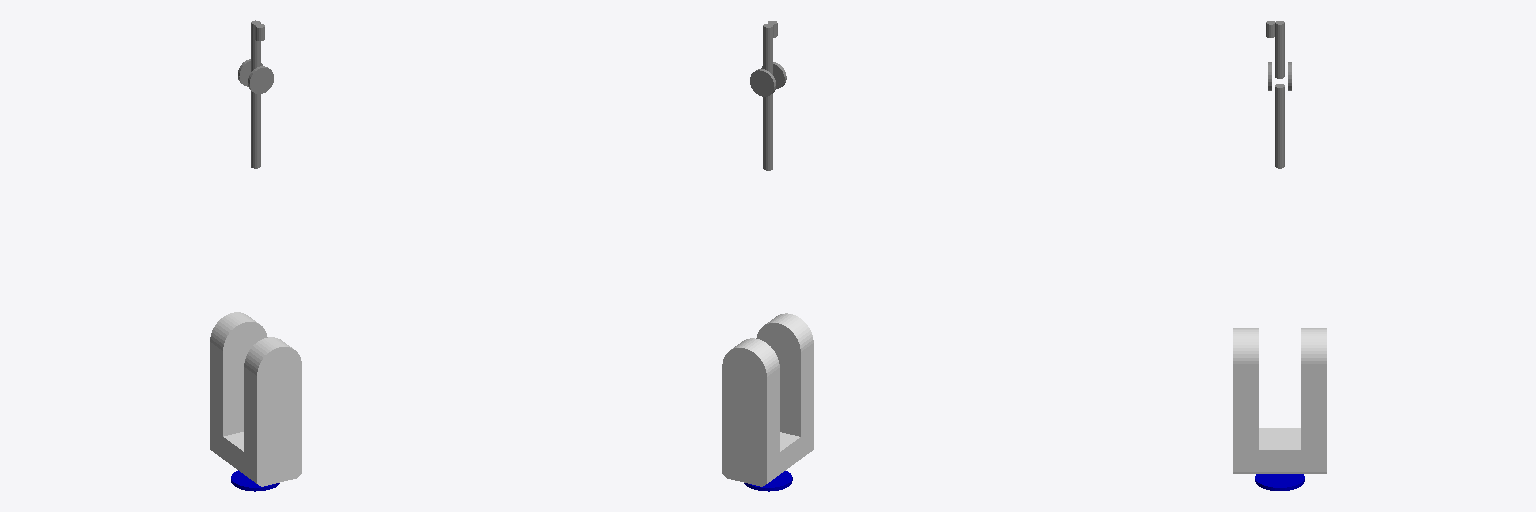
The robot description file, URDF, robot "x6":
<?xml version="1.0" ?>
<!-- =================================================================================== -->
<!-- |    This document was autogenerated by xacro from x6.urdf.xacro                  | -->
<!-- |    EDITING THIS FILE BY HAND IS NOT RECOMMENDED                                 | -->
<!-- =================================================================================== -->
<robot name="x6" xmlns:xacro="http://www.ros.org/wiki/xacro">
  <!-- Included URDF Files -->
  <link name="base">
    <inertial>
      <mass value="10"/>
      <origin rpy="0 0 0" xyz="0.0 0.0 0.0"/>
      <inertia ixx="0.001" ixy="0.0" ixz="0.0" iyy="0.001" iyz="0.0" izz="0.001"/>
    </inertial>
  </link>
  <!-- Used for fixing robot to Gazebo 'base_link' -->
  <link name="world"/>
  <joint name="fixed" type="fixed">
    <parent link="world"/>
    <child link="base"/>
  </joint>
  <link name="x6_base_link">
    <visual>
      <geometry>
        <!-- <mesh filename="package://x6_description/meshes/x6_common/x6_link_0_gnd.dae"/> -->
        <cylinder length="0.008" radius="0.05"/>
      </geometry>
      <origin rpy="0 0 0" xyz="0 0 0.004"/>
      <material name="blue">
        <color rgba="0 0 .8 1"/>
      </material>
    </visual>
    <collision>
      <geometry>
        <cylinder length="0.008" radius="0.05"/>
        <!-- <mesh filename="package://x6_description/meshes/x6_common/x6_link_0_gnd.stl"/> -->
      </geometry>
      <origin rpy="0 0 0" xyz="0 0 0.004"/>
    </collision>
    <inertial>
      <mass value="0.1"/>
      <origin rpy="0 0 0" xyz="0.0 0.0 0.0"/>
      <inertia ixx="0.001" ixy="0.0" ixz="0.0" iyy="0.001" iyz="0.0" izz="0.001"/>
    </inertial>
  </link>
  <gazebo reference="x6_base_link">
    <selfCollide>true</selfCollide>
    <material>x6_material/Grey</material>
    <!--<material>HLUGV/Green</material>-->
  </gazebo>
  <link name="x6_link1">
    <visual>
      <geometry>
        <mesh filename="package://x6_description/meshes/x6_common/x6_link_1.dae"/>
        <!--                    <box size="${j1_x} ${j1_y} ${j1_z}" />-->
      </geometry>
      <origin rpy="0 0 1.5707963268" xyz="0 0 -0.008"/>
      <material name="green">
        <color rgba="0.9 0.9 0.9 1"/>
      </material>
    </visual>
    <collision>
      <geometry>
        <mesh filename="package://x6_description/meshes/x6_common/x6_link_1.stl"/>
        <!--<box size="${j1_x} ${j1_y} ${j1_z}" />-->
      </geometry>
      <origin rpy="0 0 1.5707963268" xyz="0 0 -0.008"/>
    </collision>
    <inertial>
      <mass value="3"/>
      <origin rpy="0 0 0" xyz="0.0 0.0 0.0"/>
      <inertia ixx="0.001" ixy="0.0" ixz="0.0" iyy="0.001" iyz="0.0" izz="0.001"/>
    </inertial>
  </link>
  <gazebo reference="x6_link1">
    <selfCollide>true</selfCollide>
    <material>x6_material/White</material>
    <!--<material>Gazebo/Blue</material>-->
  </gazebo>
  <link name="x6_link2">
    <visual>
      <geometry>
        <mesh filename="package://x6_description/meshes/x6_common/x6_link_2.dae"/>
        <!--<mesh filename="package://katana_description/meshes/katana/katana_internal_controlbox.stl" />-->
      </geometry>
      <!--<origin xyz="${j2_length/2 - j2_overhang_rear/2 } 0 0" rpy="0 ${pi/2} 0"/>-->
      <origin rpy="0 1.5707963268 3.1415926536" xyz="0 0 0"/>
      <material name="red">
        <color rgba="0.6 0.6 0.6 1"/>
      </material>
    </visual>
    <collision>
      <geometry>
        <mesh filename="package://x6_description/meshes/x6_common/x6_link_2.stl"/>
        <!--<cylinder radius="0.02" length="${j2_length}" />-->
      </geometry>
      <origin rpy="0 1.5707963268 3.1415926536" xyz="0 0 0"/>
    </collision>
    <inertial>
      <mass value="0.5"/>
      <origin rpy="0 0 0" xyz="0.0 0.0 0.0"/>
      <inertia ixx="0.001" ixy="0.0" ixz="0.0" iyy="0.001" iyz="0.0" izz="0.001"/>
    </inertial>
  </link>
  <gazebo reference="x6_link2">
    <selfCollide>true</selfCollide>
    <material>x6_material/Grey</material>
    <!--<material>HLUGV/Green</material>-->
  </gazebo>
  <link name="x6_link3">
    <visual>
      <geometry>
        <mesh filename="package://x6_description/meshes/x6/x6_link_3.dae"/>
        <!--<cylinder radius="0.02" length="${j3_length}" />-->
      </geometry>
      <origin rpy="1.5707963268 0 1.5707963268" xyz="0 0 0"/>
      <material name="red">

                </material>
    </visual>
    <collision>
      <geometry>
        <mesh filename="package://x6_description/meshes/x6/x6_link_3.stl"/>
        <!--  <cylinder radius="0.02" length="${j3_length}" />-->
      </geometry>
      <origin rpy="1.5707963268 0 1.5707963268" xyz="0 0 0"/>
    </collision>
    <inertial>
      <mass value="0.1"/>
      <origin rpy="0 0 0" xyz="0.0 0.0 0.0"/>
      <inertia ixx="0.001" ixy="0.0" ixz="0.0" iyy="0.001" iyz="0.0" izz="0.001"/>
    </inertial>
  </link>
  <gazebo reference="x6_link3">
    <selfCollide>true</selfCollide>
    <material>x6_material/Grey</material>
    <!--<material>HLUGV/Green</material>-->
  </gazebo>
  <link name="x6_link4">
    <visual>
      <geometry>
        <mesh filename="package://x6_description/meshes/x6/x6_link_4.dae"/>
        <!--                    <cylinder radius="0.002" length="0.001" />-->
      </geometry>
      <origin rpy="3.1415926536 0 0" xyz="0 0 -0.1"/>
      <material name="red">

                </material>
    </visual>
    <collision>
      <geometry>
        <mesh filename="package://x6_description/meshes/x6/x6_link_4.stl"/>
        <!--<cylinder radius="0.02" length="${j4_length}" />-->
      </geometry>
      <origin rpy="3.1415926536 0 0" xyz="0 0 -0.1"/>
    </collision>
    <inertial>
      <mass value="0.01"/>
      <origin rpy="0 0 0" xyz="0.0 0.0 0.0"/>
      <inertia ixx="0.001" ixy="0.0" ixz="0.0" iyy="0.001" iyz="0.0" izz="0.001"/>
    </inertial>
  </link>
  <gazebo reference="x6_link5">
    <selfCollide>true</selfCollide>
    <material>x6_material/Grey</material>
    <!--<material>HLUGV/Green</material>-->
  </gazebo>
  <link name="x6_link5">
    <visual>
      <geometry>
        <mesh filename="package://x6_description/meshes/x6_common/x6_link_4_0120.dae"/>
        <!--  <cylinder radius="0.02" length="${j4_length}" />-->
      </geometry>
      <origin rpy="-1.5707963268 0 0" xyz="0 0 0"/>
      <material name="red">

                </material>
    </visual>
    <collision>
      <geometry>
        <mesh filename="package://x6_description/meshes/x6_common/x6_link_4_0120.stl"/>
        <!--<cylinder radius="0.02" length="${j4_length}" />-->
      </geometry>
      <origin rpy="-1.5707963268 0 0" xyz="0 0 0"/>
    </collision>
    <inertial>
      <mass value="0.01"/>
      <origin rpy="0 0 0" xyz="0.0 0.0 0.0"/>
      <inertia ixx="0.001" ixy="0.0" ixz="0.0" iyy="0.001" iyz="0.0" izz="0.001"/>
    </inertial>
  </link>
  <gazebo reference="x6_link5">
    <selfCollide>true</selfCollide>
    <material>x6_material/Grey</material>
    <!--<material>HLUGV/Green</material>-->
  </gazebo>
  <link name="x6_link6">
    <visual>
      <geometry>
        <mesh filename="package://x6_description/meshes/x6/x6_link_6.dae"/>
        <!--<cylinder radius="0.002" length="0.001" />-->
      </geometry>
      <origin rpy="0 0 0" xyz="0 0 -0.036"/>
      <material name="red">

      </material>
    </visual>
    <collision>
      <geometry>
        <mesh filename="package://x6_description/meshes/x6/x6_link_6.stl"/>
        <!--<cylinder radius="0.002" length="0.001" />-->
      </geometry>
      <origin rpy="0 0 0" xyz="0 0 -0.036"/>
    </collision>
    <inertial>
      <mass value="0.01"/>
      <origin rpy="0 0 0" xyz="0.0 0.0 0.0"/>
      <inertia ixx="0.001" ixy="0.0" ixz="0.0" iyy="0.001" iyz="0.0" izz="0.001"/>
    </inertial>
  </link>
  <gazebo reference="x6_link6">
    <selfCollide>true</selfCollide>
    <material>x6_material/Grey</material>
    <!--<material>HLUGV/Green</material>-->
  </gazebo>
  <link name="x6_toolframe">
    <visual>
      <geometry>
        <mesh filename="package://x6_description/meshes/x6_common/x6_rot_racket.dae"/>
        <!-- <cylinder radius="0.08" length="0.01" /> -->
      </geometry>
      <origin rpy="0 -1.5707963268 3.1415926536" xyz="-0.0015 0 0.01"/>
      <!-- <origin xyz="-0.0215 0 0.01" rpy="0 0 0"/> -->
      <material name="blue">
        <color rgba="0 0 .8 1"/>
      </material>
    </visual>
    <collision>
      <geometry>
        <!-- <mesh filename="package://x6_description/meshes/x6_common/x6_rot_racket.stl"/> -->
        <cylinder length="0.01" radius="0.08"/>
      </geometry>
      <!--<origin xyz="-0.0015 0 0.01" rpy="0 -${pi/2} ${pi}"/> -->
      <origin rpy="0 0 0" xyz="-0.0215 0 0.01"/>
      <surface>
        <contact>
          <ode>
            <kp>1e+08</kp>
            <kd>10000</kd>
          </ode>
        </contact>
        <friction>
          <ode>
            <mu>0</mu>
            <mu2>0</mu2>
          </ode>
        </friction>
      </surface>
    </collision>
    <inertial>
      <mass value="0.01"/>
      <origin rpy="0 0 0" xyz="0.0 0.0 0.0"/>
      <inertia ixx="0.001" ixy="0.0" ixz="0.0" iyy="0.001" iyz="0.0" izz="0.001"/>
    </inertial>
  </link>
  <gazebo reference="x6_toolframe">
    <selfCollide>true</selfCollide>
    <material>Gazebo/Grey</material>
  </gazebo>
  <joint name="x6_base_joint" type="fixed">
    <origin rpy="0 0 0" xyz="0 0 0"/>
    <parent link="base"/>
    <child link="x6_base_link"/>
  </joint>
  <joint name="joint1" type="revolute">
    <parent link="x6_base_link"/>
    <child link="x6_link1"/>
    <axis xyz="0 0 1"/>
    <origin xyz="0 0 0.008"/>
    <limit effort="50.0" lower="-2.53" upper="2.53" velocity="2.617"/>
    <!-- TODO: give correct effort limits -->
    <dynamics damping="1.0" friction="1.0"/>
  </joint>
  <joint name="joint2" type="revolute">
    <parent link="x6_link1"/>
    <child link="x6_link2"/>
    <axis xyz="0 0 1"/>
    <origin rpy="1.5707963268 0 0" xyz="0 0 0.276"/>
    <limit effort="50.0" lower="-2.181" upper="2.0071" velocity="2.617"/>
    <dynamics damping="1.0" friction="1.0"/>
  </joint>
  <joint name="joint3" type="revolute">
    <parent link="x6_link2"/>
    <child link="x6_link3"/>
    <axis xyz="0 0 1 "/>
    <origin rpy="0 0 1.5707963268" xyz="0 0.307 0"/>
    <limit effort="30.0" lower="-2.007" upper="2.007" velocity="2.617"/>
    <dynamics damping="1.0" friction="1.0"/>
  </joint>
  <joint name="joint4" type="revolute">
    <parent link="x6_link3"/>
    <child link="x6_link4"/>
    <axis xyz="0 0 1"/>
    <origin rpy="1.5707963268 0 -1.5707963268" xyz="0 0 0.0"/>
    <limit effort="30.0" lower="-1.83" upper="1.83" velocity="2.617"/>
    <!-- TODO: give correct effort limits -->
    <dynamics damping="1.0" friction="1.0"/>
  </joint>
  <joint name="joint5" type="revolute">
    <!--<joint name="joint5" type="fixed">-->
    <parent link="x6_link4"/>
    <child link="x6_link5"/>
    <axis xyz="0 0 1"/>
    <origin rpy="-1.5707963268 0 0" xyz="0 0 -0.311"/>
    <!--<origin xyz="0 0 ${-j3_length - j4_length}" rpy="${-pi/2} ${pi/2} 0"/>-->
    <limit effort="30.0" lower="-1.57" upper="1.57" velocity="2.617"/>
    <!-- <limit effort="0.1" lower="0.01" upper="0.01" velocity="0.1"/> -->
    <!--<dynamics damping="1.0" friction="1.0"/>-->
  </joint>
  <joint name="joint6" type="revolute">
    <parent link="x6_link5"/>
    <child link="x6_link6"/>
    <axis xyz="0 0 1"/>
    <origin rpy="-1.5707963268 0 0" xyz="0 0.126 0.018"/>
    <limit effort="10.0" lower="-1.57" upper="1.57" velocity="2.617"/>
    <!-- TODO: give correct effort limits -->
    <dynamics damping="1.0" friction="1.0"/>
  </joint>
  <joint name="tool_frame" type="fixed">
    <parent link="x6_link6"/>
    <child link="x6_toolframe"/>
    <axis xyz="0 0 1"/>
    <!-- <origin xyz="0 ${j6_length} 0" rpy="0 0 ${pi/2}"/> -->
    <origin rpy="3.1415926536 -1.5707963268 4.7123889804" xyz="0 0.012 0.11"/>
  </joint>
  <transmission name="joint1_trans">
    <type>transmission_interface/SimpleTransmission</type>
    <joint name="joint1">
      <hardwareInterface>EffortJointInterface</hardwareInterface>
    </joint>
    <actuator name="joint1_motor">
      <hardwareInterface>EffortJointInterface</hardwareInterface>
      <mechanicalReduction>1</mechanicalReduction>
    </actuator>
  </transmission>
  <transmission name="joint2_trans">
    <type>transmission_interface/SimpleTransmission</type>
    <joint name="joint2">
      <hardwareInterface>EffortJointInterface</hardwareInterface>
    </joint>
    <actuator name="joint2_motor">
      <hardwareInterface>EffortJointInterface</hardwareInterface>
      <mechanicalReduction>1</mechanicalReduction>
    </actuator>
  </transmission>
  <transmission name="joint3_trans">
    <type>transmission_interface/SimpleTransmission</type>
    <joint name="joint3">
      <hardwareInterface>EffortJointInterface</hardwareInterface>
    </joint>
    <actuator name="joint3_motor">
      <hardwareInterface>EffortJointInterface</hardwareInterface>
      <mechanicalReduction>1</mechanicalReduction>
    </actuator>
  </transmission>
  <transmission name="joint4_trans">
    <type>transmission_interface/SimpleTransmission</type>
    <joint name="joint4">
      <hardwareInterface>EffortJointInterface</hardwareInterface>
    </joint>
    <actuator name="joint4_motor">
      <hardwareInterface>EffortJointInterface</hardwareInterface>
      <mechanicalReduction>1</mechanicalReduction>
    </actuator>
  </transmission>
  <transmission name="joint5_trans">
    <type>transmission_interface/SimpleTransmission</type>
    <joint name="joint5">
      <hardwareInterface>EffortJointInterface</hardwareInterface>
    </joint>
    <actuator name="joint5_motor">
      <hardwareInterface>EffortJointInterface</hardwareInterface>
      <mechanicalReduction>1</mechanicalReduction>
    </actuator>
  </transmission>
  <transmission name="joint6_trans">
    <type>transmission_interface/SimpleTransmission</type>
    <joint name="joint6">
      <hardwareInterface>EffortJointInterface</hardwareInterface>
    </joint>
    <actuator name="joint6_motor">
      <hardwareInterface>EffortJointInterface</hardwareInterface>
      <mechanicalReduction>1</mechanicalReduction>
    </actuator>
  </transmission>
  <gazebo>
    <plugin filename="libgazebo_ros_control.so" name="gazebo_ros_control">
      <robotNamespace>/x6</robotNamespace>
    </plugin>
  </gazebo>
</robot>

--- What the picture shows (computed from the rendered views, not written in the file) ---
The picture shows the robot from 3 angles, left to right: view 1: azimuth 30°, elevation 25°; view 2: azimuth 150°, elevation 25°; view 3: azimuth 270°, elevation 25°; orthographic projection.
Model x6 with 10 links and 9 joints (6 revolute, 3 fixed), rooted at world, posed all joints at 0.
Links seen in each view (by area): view 1: x6_link1, x6_link5, x6_link4; view 2: x6_link1, x6_link5, x6_link4; view 3: x6_link1, x6_link4, x6_link5, x6_base_link.
Link boxes in pixels (x1,y1,x2,y2): x6_link1: (210,312,301,486); x6_link5: (238,20,273,93); x6_link4: (251,91,260,168); x6_link1: (722,313,813,486); x6_link5: (750,24,786,96); x6_link4: (763,94,772,170); x6_link1: (1233,328,1326,473); x6_link4: (1275,84,1284,168); x6_link5: (1268,21,1291,90); x6_base_link: (1255,474,1304,490).
Bounding box of the posed robot: 0.1044 × 0.1906 × 1.02 m (x, y, z).
Meshes: 7 distinct files referenced, 4 mesh visuals loaded (4 Collada DAE); not drawn: 3 (reference not matched to a file when rendering).